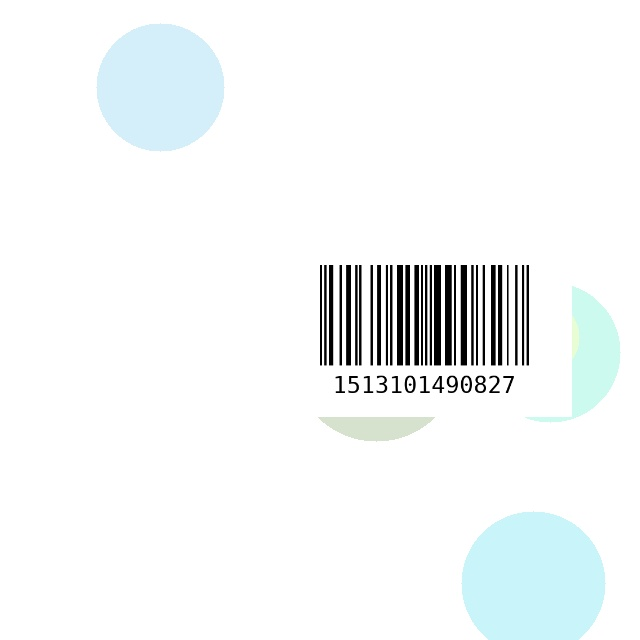barcode: (277, 259, 572, 417)
